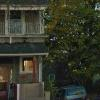Tree: (43, 2, 98, 85)
